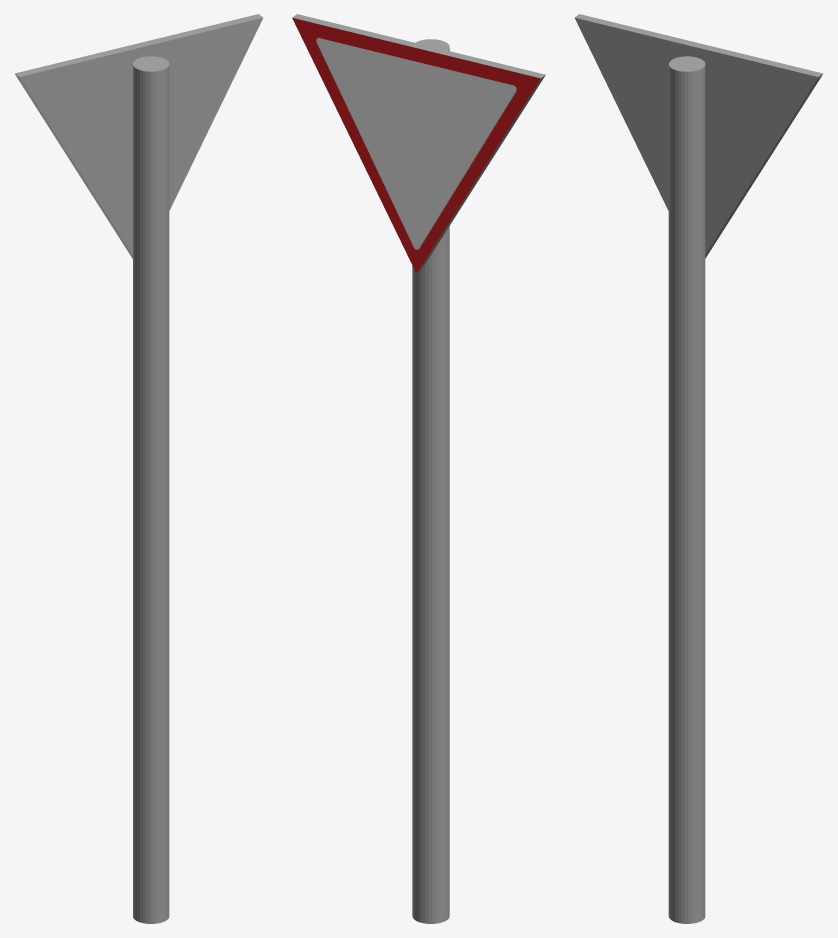
The model's file is ЗнакУступиДорогу.fbx.
3 views of the same model, side by side, from view 1: azimuth 30°, elevation 25°; view 2: azimuth 150°, elevation 25°; view 3: azimuth 330°, elevation 25° (orthographic).
Parts seen in each view (by area): view 1: Знак; view 2: Знак; view 3: Знак.
Part boxes in pixels (<box>): Знак: <box>14,14,263,923</box>; Знак: <box>292,14,545,923</box>; Знак: <box>574,14,823,923</box>.
Size of the model in its own units: 53.83 by 320 by 1081.
